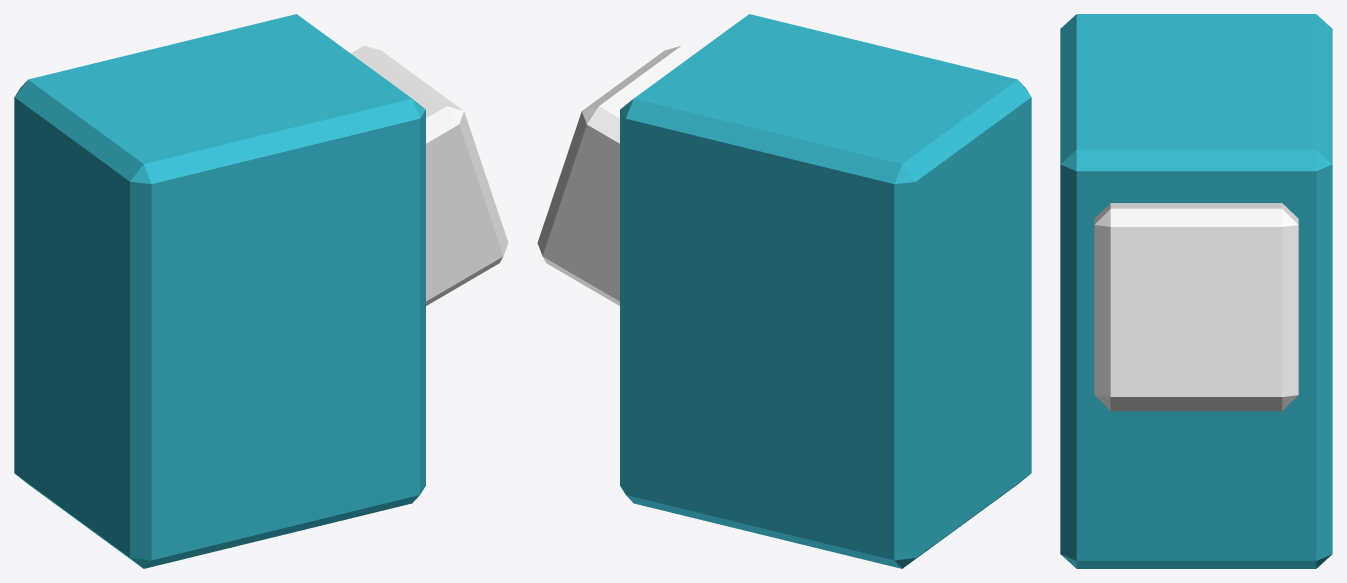
File: fan_switch.glb
3 renders of one model, left to right at view 1: azimuth 30°, elevation 25°; view 2: azimuth 150°, elevation 25°; view 3: azimuth 270°, elevation 25°, orthographic. The views are drawn at different scales.
Parts seen in each view (by area): view 1: fan_switch; view 2: fan_switch; view 3: fan_switch.
Part boxes in pixels (left/top/right/bottom): fan_switch: left=14, top=14, right=508, bottom=568; fan_switch: left=537, top=14, right=1031, bottom=568; fan_switch: left=1060, top=14, right=1332, bottom=568.
Bounding box in the file's own units: 0.1735 × 0.17 × 0.1.
